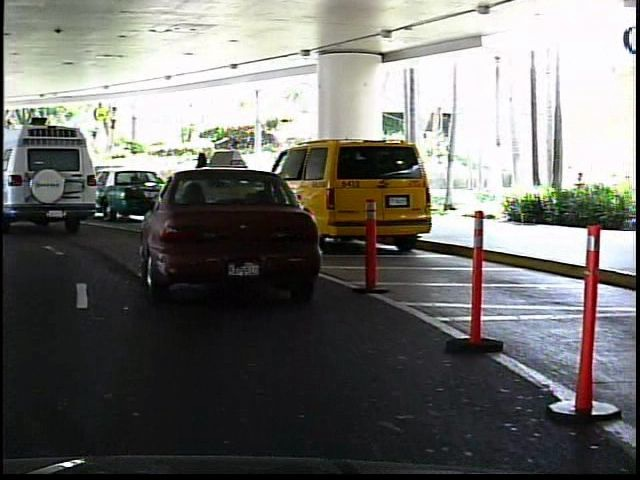person: (189, 146, 216, 215), (224, 143, 250, 211), (67, 152, 89, 199), (7, 158, 25, 197)
